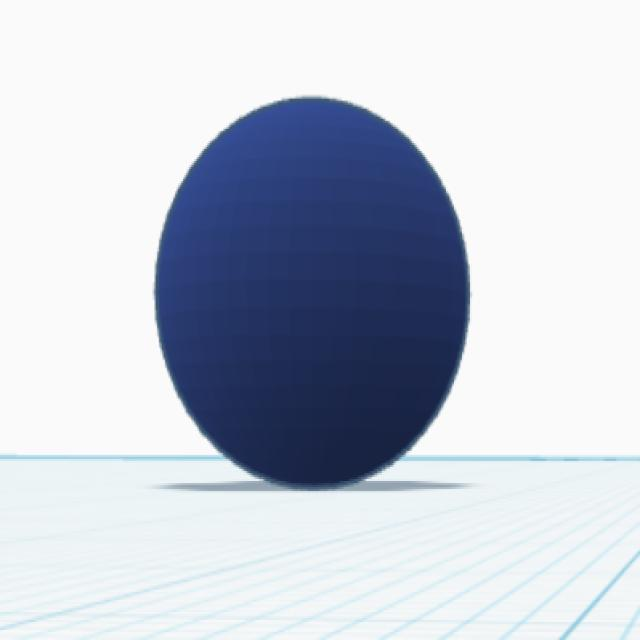sphere: (152, 92, 473, 493)
